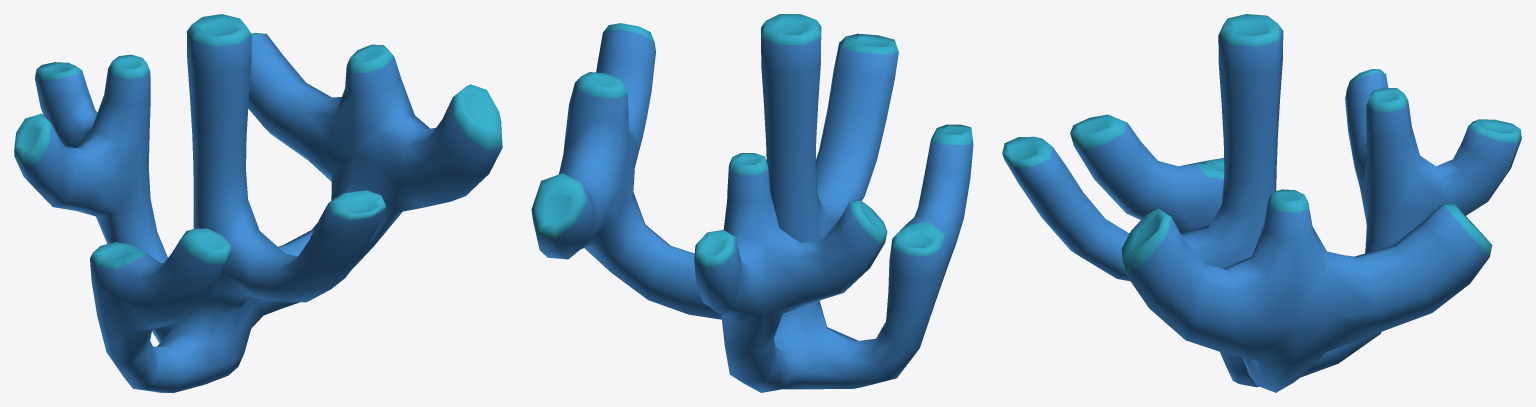
The model's file is terumbu karang biru gede.fbx.
3 renders of one model, left to right at view 1: azimuth 30°, elevation 25°; view 2: azimuth 150°, elevation 25°; view 3: azimuth 270°, elevation 25°, orthographic. The views are drawn at different scales.
Visible parts, largest first — view 1: coral 3; view 2: coral 3; view 3: coral 3.
Boxes of the visible parts, <box> form: coral 3: <box>14,14,502,392</box>; coral 3: <box>531,14,973,392</box>; coral 3: <box>1002,14,1521,392</box>.
Bounding box in the file's own units: 611 × 539 × 702.
